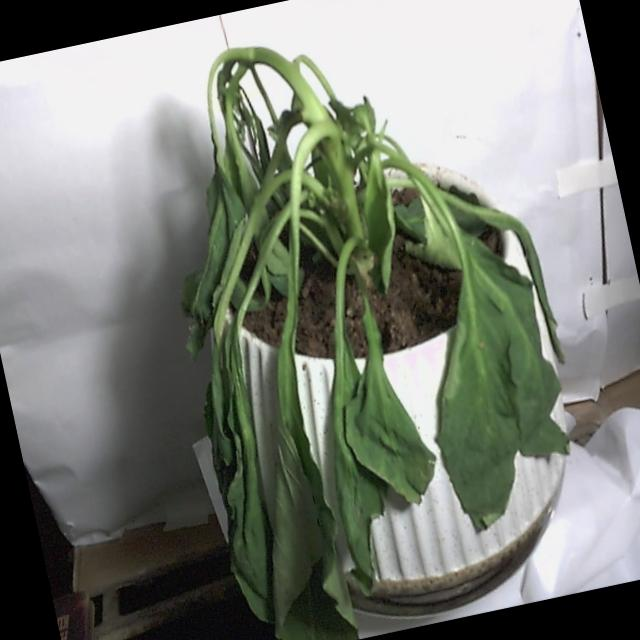Leaf: (214, 342, 361, 640), (402, 264, 544, 534), (329, 315, 442, 510)
